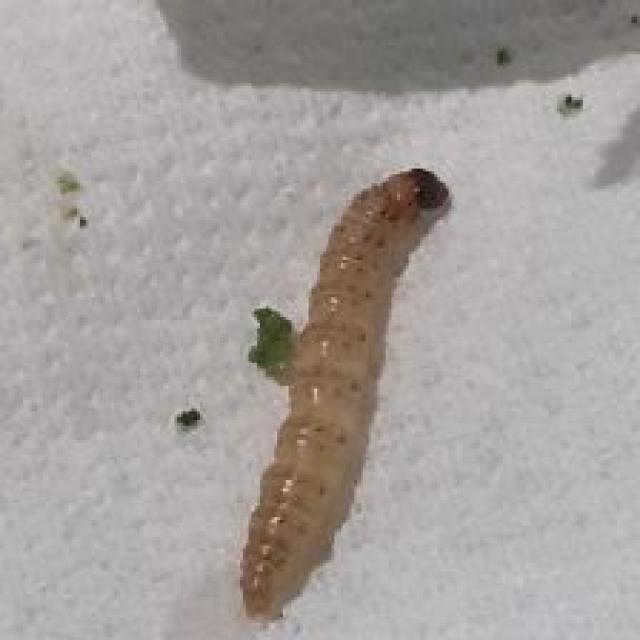white mucus: (226, 125, 489, 638)
